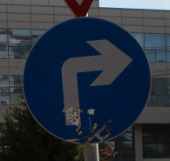right_turn: (23, 18, 151, 143)
